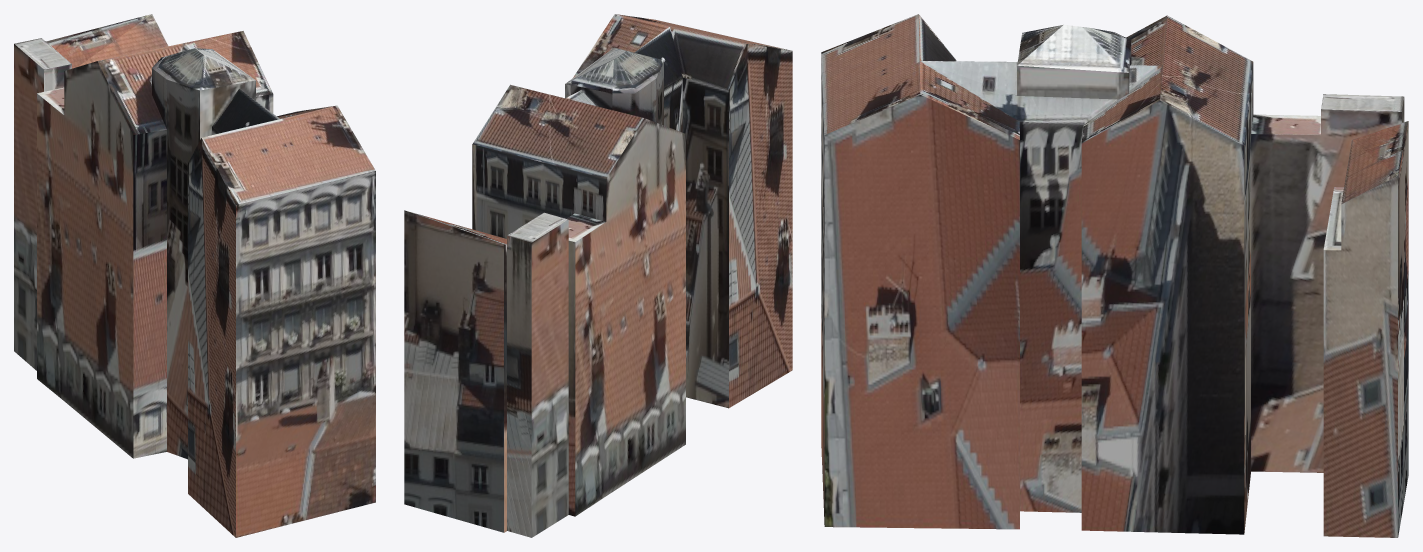
3 renders of one model, left to right at view 1: azimuth 30°, elevation 25°; view 2: azimuth 150°, elevation 25°; view 3: azimuth 270°, elevation 25°, orthographic. The views are drawn at different scales.
Parts seen in each view (by area): view 1: Z_UP; view 2: Z_UP; view 3: Z_UP.
Boxes of the visible parts, bbox=[...] form: Z_UP: bbox=[14, 14, 375, 537]; Z_UP: bbox=[404, 14, 792, 537]; Z_UP: bbox=[821, 14, 1408, 537].
Size of the model in its own units: 11.94 by 27.79 by 32.05.
Materials: 2 (1 with a texture image).
